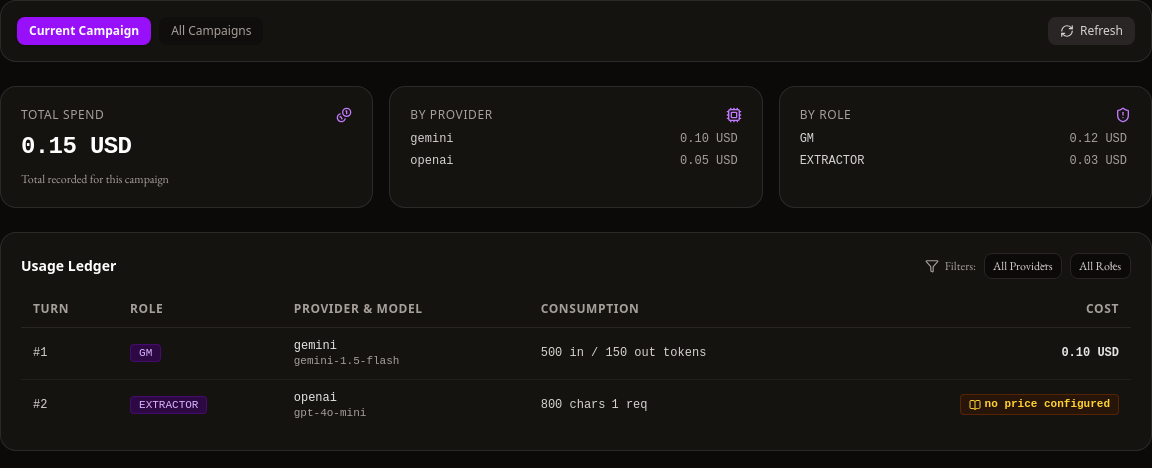
Test: UsagePanel › empty states › shows filter mismatch message when filters filter out all rows
Expected: the text "#1" is shown, 21,328 -> 118,379
// Filter by a provider that does not match row 2 when filtering for specific role
Select "nonexistent-role" in the 2nd dropdown showing "All Roles": (1100, 266) 1070,253 -> 1131,279
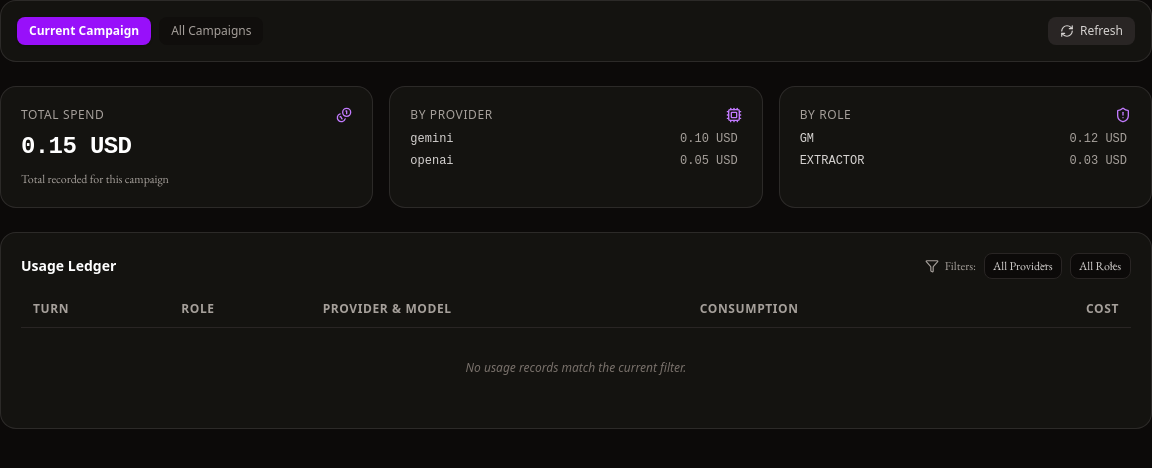
Now the text "No usage records match the current filter." is shown, box 21,328 -> 1131,408
